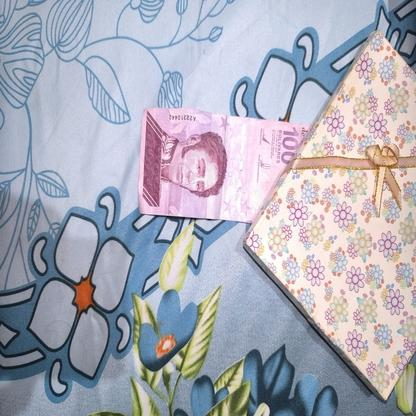vef_front: (138, 107, 310, 222)
